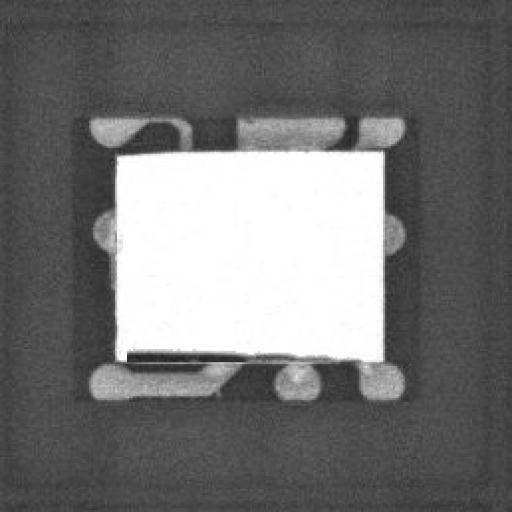DIE_BROKEN: (119, 343, 328, 364)
